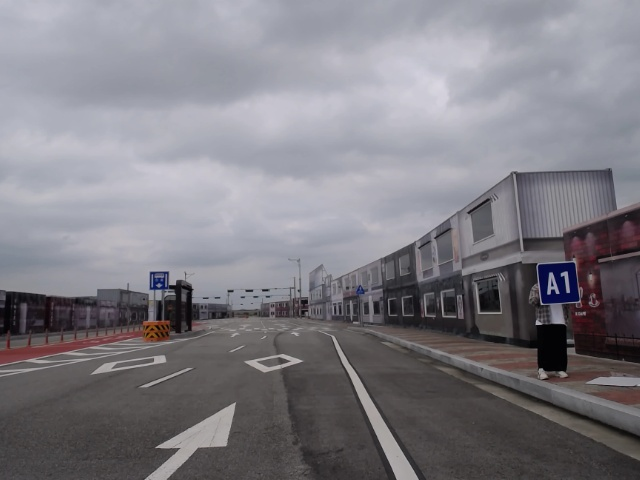delivery_a1: (536, 262, 581, 305)
